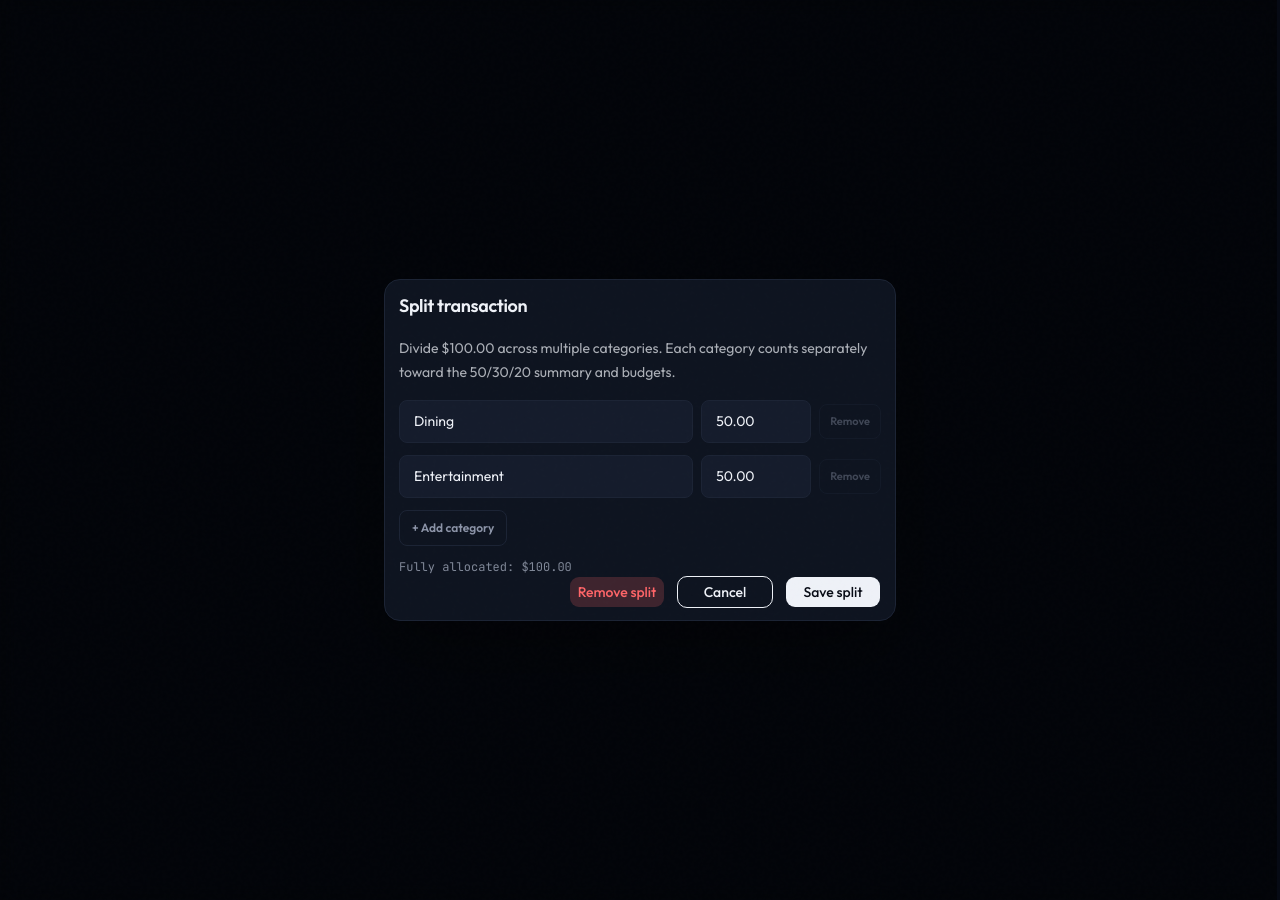
SplitTransactionDialog › shows an info tooltip warning that a blank row will be skipped by Auto-fix
Click the button "+ Add category" at (453, 528), box [399,510,507,546]
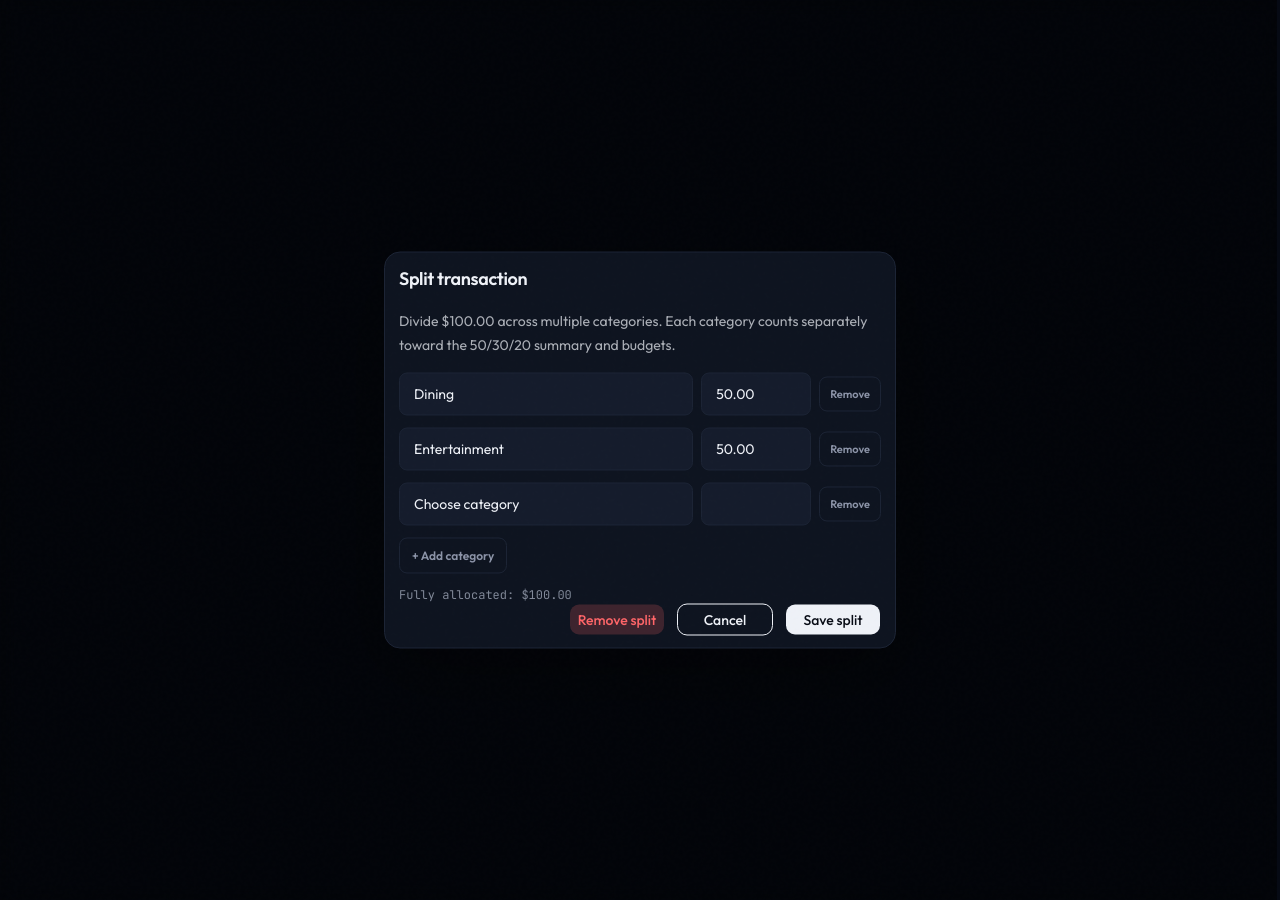
Expected: the text "ⓘ" is not shown
Replace the text in the number field named "Split 1 amount" with "40" at (756, 394), box [701,372,811,416]
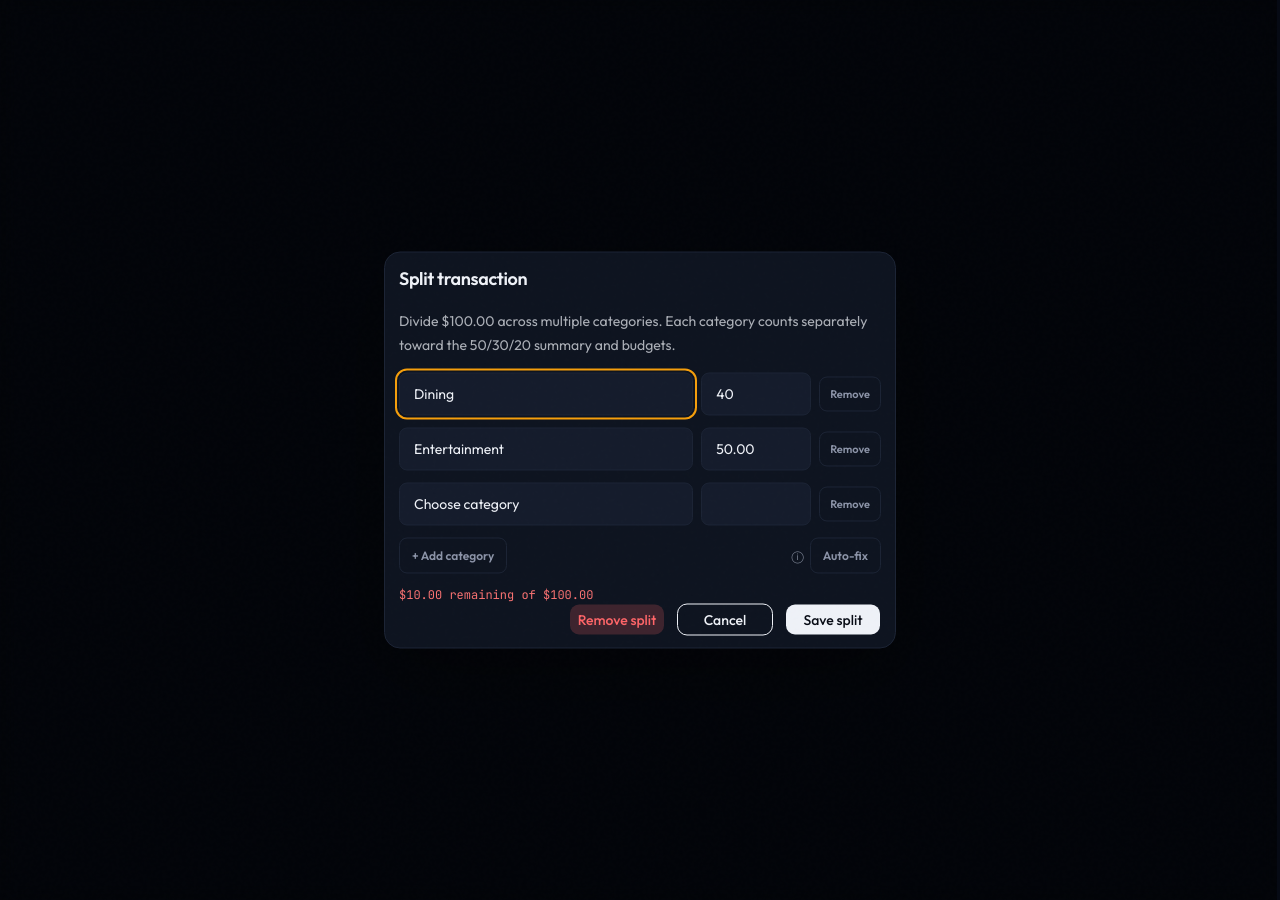
Expected: the button "ⓘ" is shown, [791,546,804,564]
